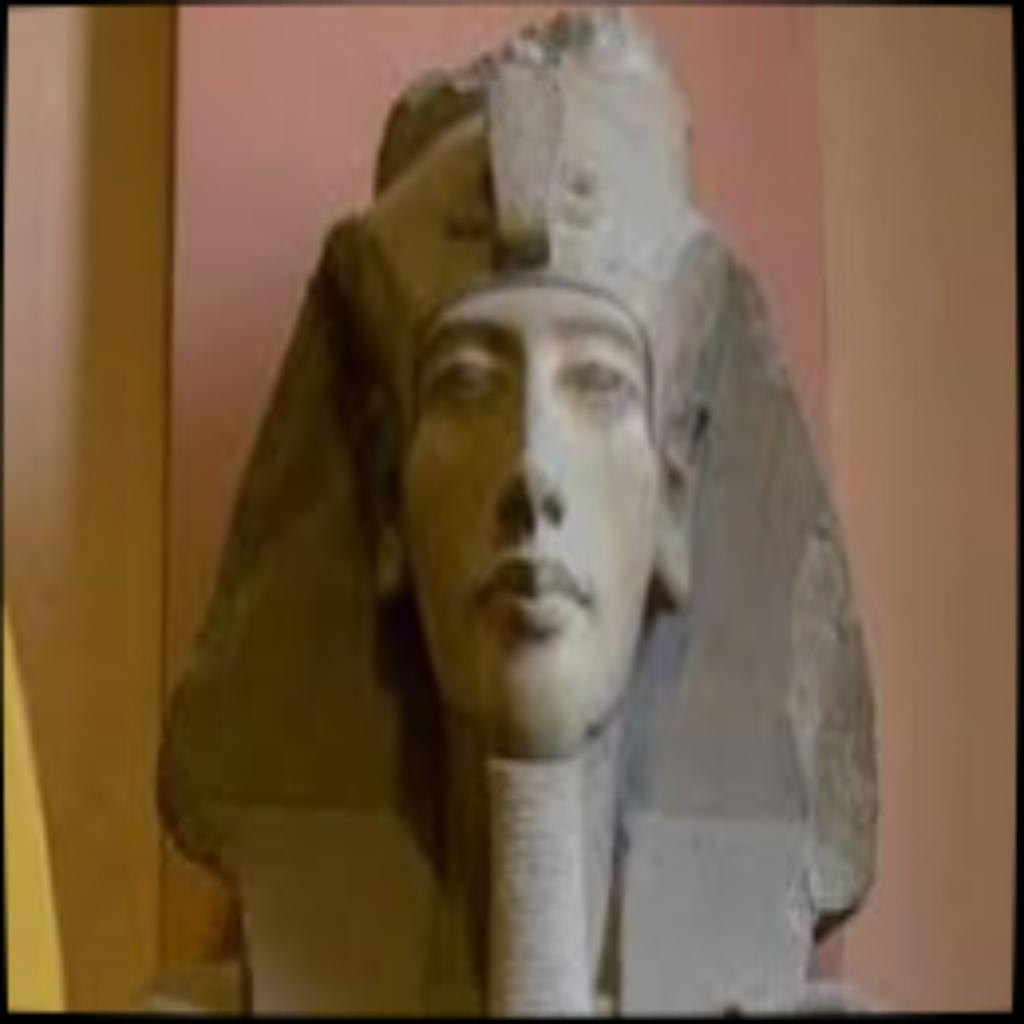Akhenaten: (150, 0, 890, 1012)
